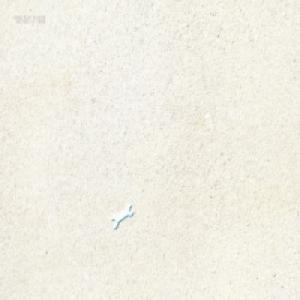Wrench: (112, 202, 134, 228)
